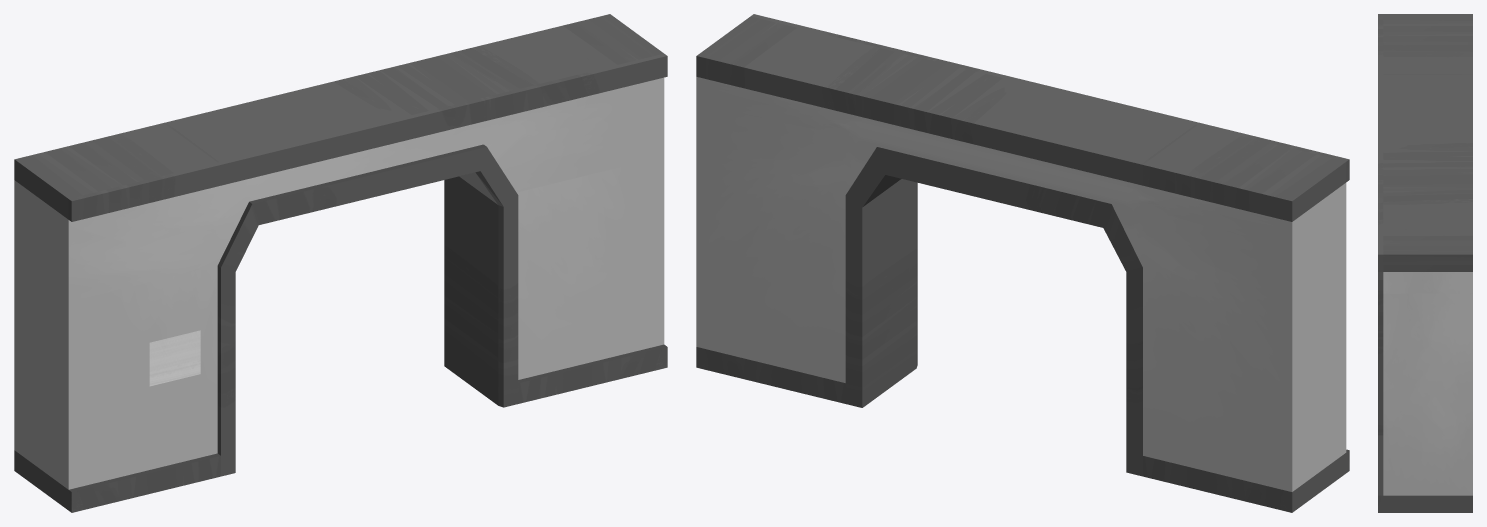
Rendered from Wall_DoorFrame.fbx.
3 renders of one model, left to right at view 1: azimuth 30°, elevation 25°; view 2: azimuth 150°, elevation 25°; view 3: azimuth 270°, elevation 25°, orthographic. The views are drawn at different scales.
Parts seen in each view (by area): view 1: Wall_DoorFrame; view 2: Wall_DoorFrame; view 3: Wall_DoorFrame.
Boxes of the visible parts, x1,y1,x2,y2 form: Wall_DoorFrame: (14, 14, 667, 512); Wall_DoorFrame: (696, 14, 1349, 512); Wall_DoorFrame: (1378, 14, 1472, 512).
Bounding box in the file's own units: 600 × 300 × 100.
